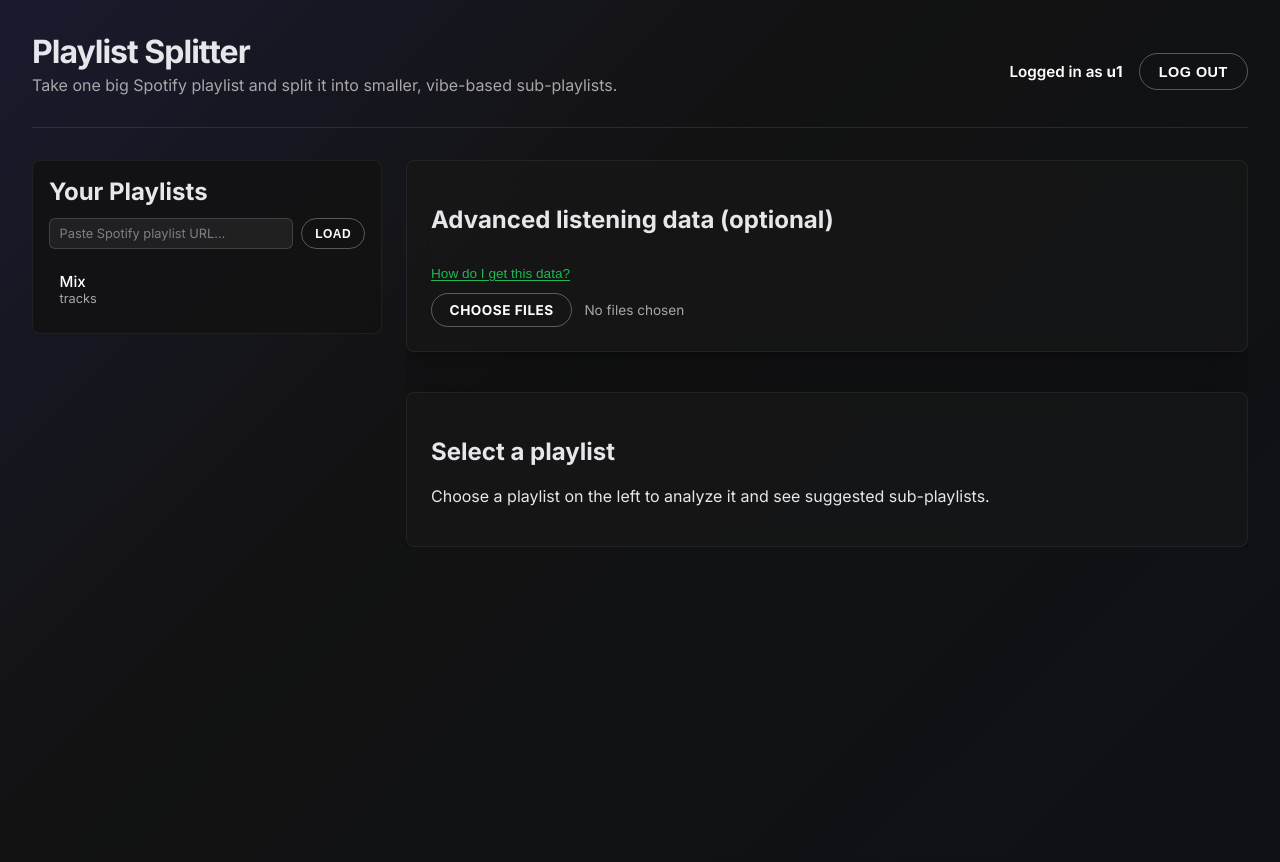
Test: Quota UI › on 429 rate-limited, shows a 'slow down' banner with the wait time
This screenshot has width=1280, height=862.
Click the text "Mix".
click(73, 282)  # box [60, 272, 86, 291]
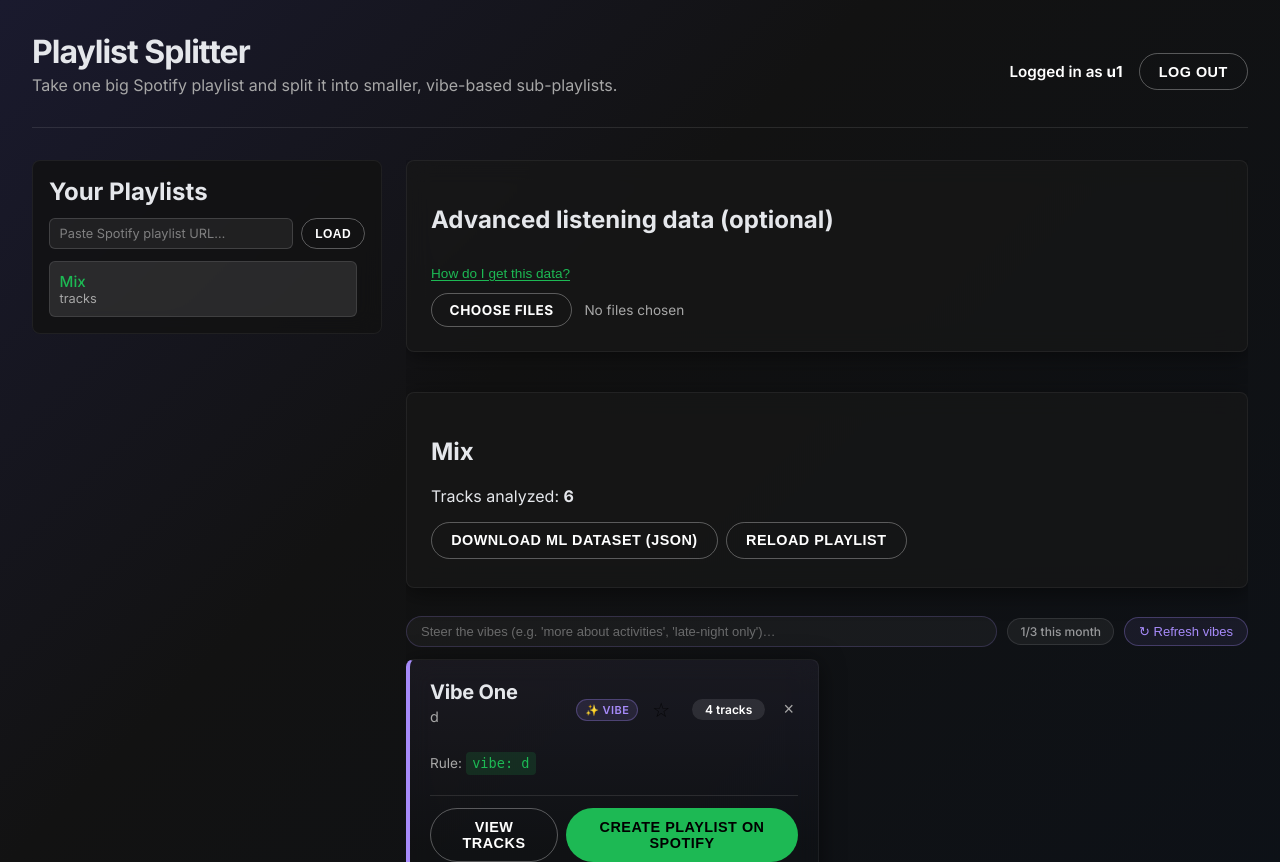
Expected: the heading "Vibe One" is shown, [430, 680, 518, 705]
Click the button "↻ Refresh vibes".
click(1186, 631)  # box [1124, 617, 1248, 646]
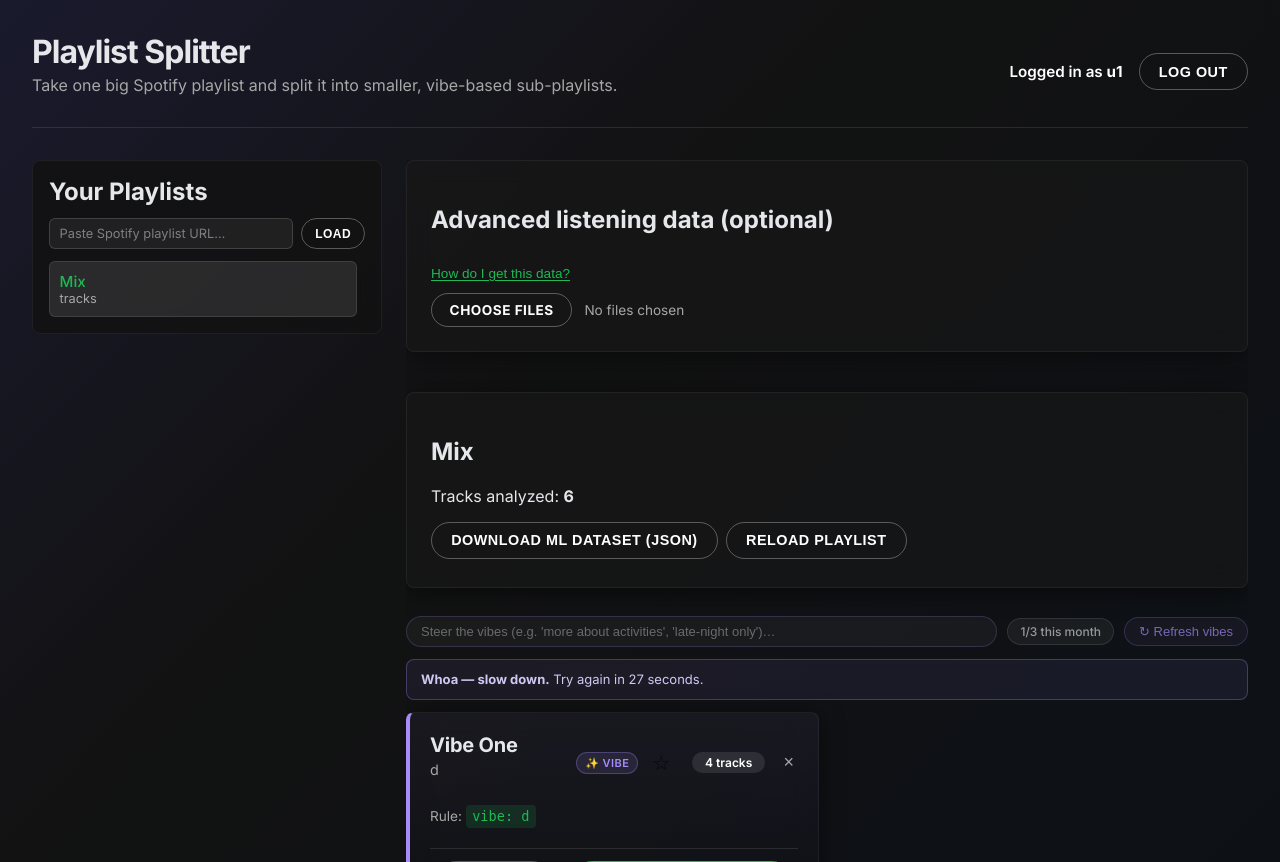
Expected: the text "Whoa — slow down." is shown, [421, 671, 550, 687]
Expected: the text "Whoa — slow down. Try again in 27 seconds." is shown, [406, 659, 1248, 700]
Expected: the button "↻ Refresh vibes" is disabled, [1124, 617, 1248, 646]
